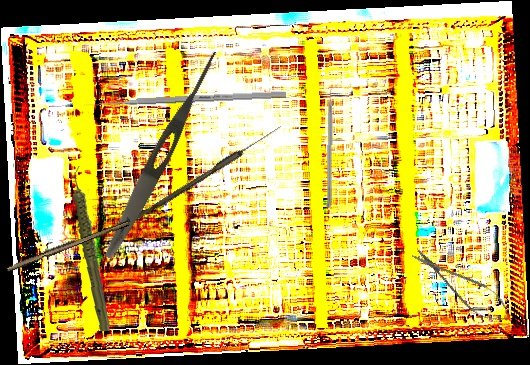Chopper: (326, 82, 340, 209)
Dressing Forceps: (98, 46, 224, 263)
Handpiece: (64, 165, 120, 332)
Micro Scissor: (405, 239, 518, 332)
Pusher: (83, 90, 287, 109)
Scalpel Handle: (5, 216, 130, 275)
Surgical Spoon: (127, 122, 283, 228)
